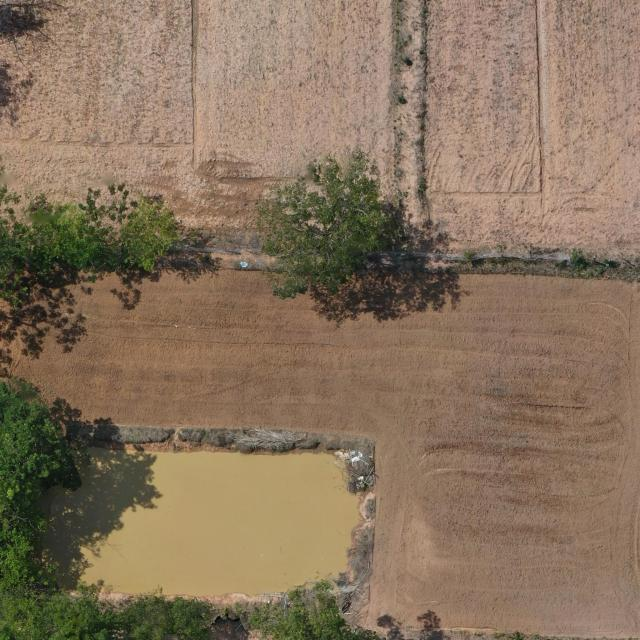blur tree: (0, 202, 113, 310), (0, 376, 79, 514)
tree: (256, 148, 405, 300), (114, 195, 182, 273)
